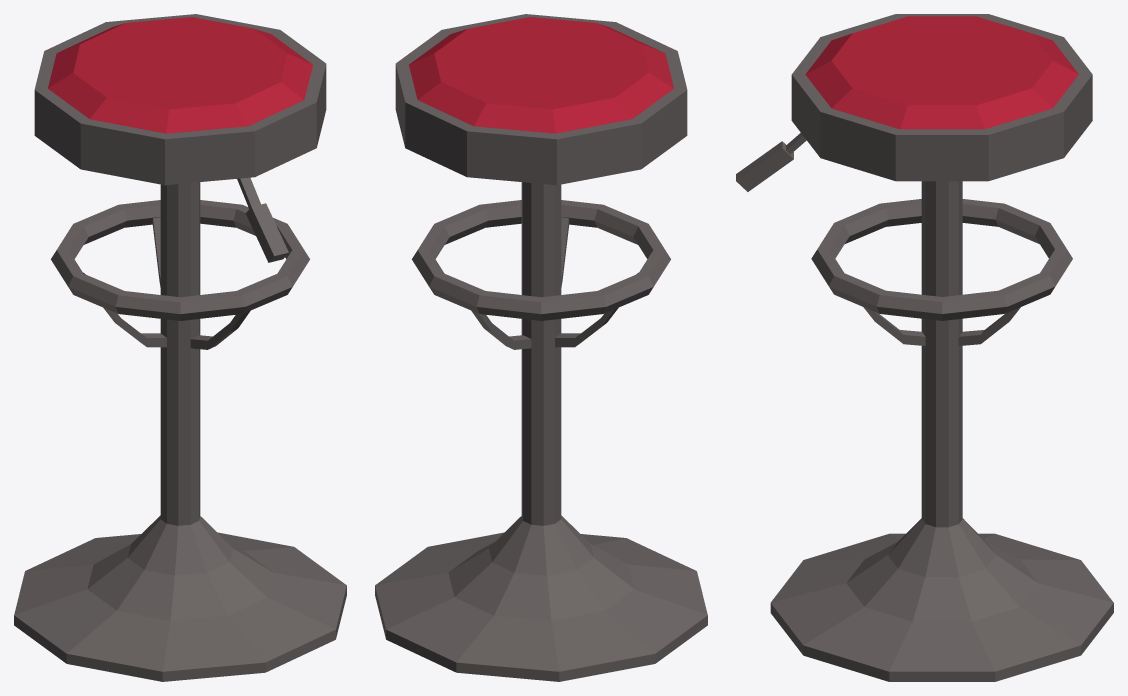
File: barstool.fbx
The picture shows the model from 3 angles, left to right: view 1: azimuth 30°, elevation 25°; view 2: azimuth 150°, elevation 25°; view 3: azimuth 270°, elevation 25°; orthographic projection.
Visible parts, largest first — view 1: Cylinder; view 2: Cylinder; view 3: Cylinder.
Part boxes in pixels (<box>): Cylinder: <box>14,14,346,681</box>; Cylinder: <box>375,14,707,681</box>; Cylinder: <box>736,14,1113,681</box>.
Size of the model in its own units: 0.4339 by 0.8097 by 0.502.
